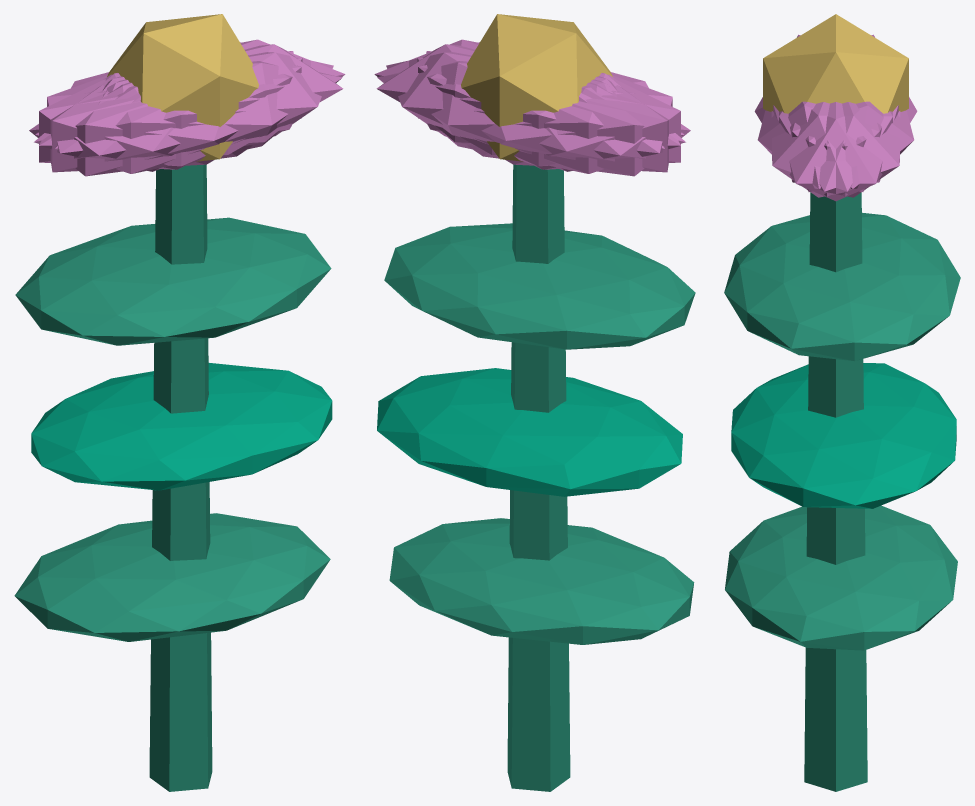
File: artocarpus-heterophyllus.glb
The picture shows the model from 3 angles, left to right: view 1: azimuth 30°, elevation 25°; view 2: azimuth 150°, elevation 25°; view 3: azimuth 270°, elevation 25°; orthographic projection.
Visible parts, largest first — view 1: leaf2, leaf0, leaf1, stem, center, petal1, petal6, petal2, petal5, petal7, petal0, petal4 (+2 smaller); view 2: leaf1, leaf2, leaf0, stem, center, petal8, petal3, petal7, petal4, petal2, petal0, petal5 (+2 smaller); view 3: leaf2, leaf1, leaf0, stem, center, petal0, petal5, petal4, petal8, petal1.
Part boxes in pixels (x1=…): leaf2: x1=15, y1=217, x2=331, y2=345; leaf0: x1=14, y1=513, x2=330, y2=641; leaf1: x1=31, y1=363, x2=332, y2=490; stem: x1=149, y1=164, x2=212, y2=791; center: x1=107, y1=14, x2=258, y2=161; petal1: x1=34, y1=61, x2=342, y2=173; petal6: x1=29, y1=74, x2=252, y2=176; petal2: x1=50, y1=51, x2=293, y2=172; petal5: x1=55, y1=52, x2=333, y2=166; petal7: x1=39, y1=57, x2=302, y2=169; petal0: x1=106, y1=44, x2=343, y2=155; petal4: x1=35, y1=39, x2=345, y2=145; leaf1: x1=377, y1=368, x2=682, y2=496; leaf2: x1=384, y1=223, x2=695, y2=349; leaf0: x1=389, y1=518, x2=694, y2=644; stem: x1=507, y1=164, x2=570, y2=791; center: x1=461, y1=14, x2=612, y2=161; petal8: x1=377, y1=61, x2=685, y2=173; petal3: x1=467, y1=74, x2=690, y2=176; petal7: x1=426, y1=51, x2=668, y2=172; petal4: x1=386, y1=52, x2=664, y2=166; petal2: x1=417, y1=57, x2=680, y2=169; petal0: x1=376, y1=44, x2=613, y2=155; petal5: x1=374, y1=39, x2=684, y2=145; leaf2: x1=724, y1=212, x2=960, y2=361; leaf1: x1=731, y1=363, x2=956, y2=508; leaf0: x1=725, y1=505, x2=957, y2=650; stem: x1=804, y1=192, x2=867, y2=791; center: x1=763, y1=14, x2=908, y2=113; petal0: x1=773, y1=102, x2=898, y2=201; petal5: x1=771, y1=102, x2=892, y2=197; petal4: x1=779, y1=102, x2=900, y2=197; petal8: x1=790, y1=101, x2=914, y2=188; petal1: x1=757, y1=101, x2=881, y2=188.
Bounding box in the file's own units: 0.1452 × 0.3452 × 0.0994.
